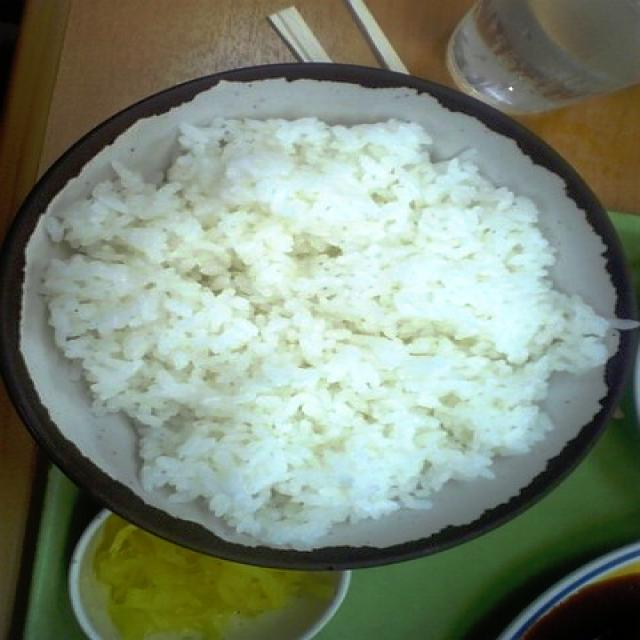rice: (42, 116, 640, 550)
